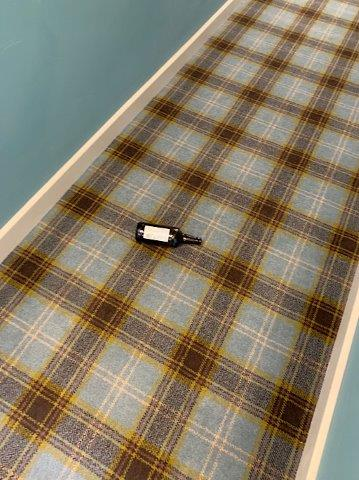botolkaca: (136, 223, 201, 247)
